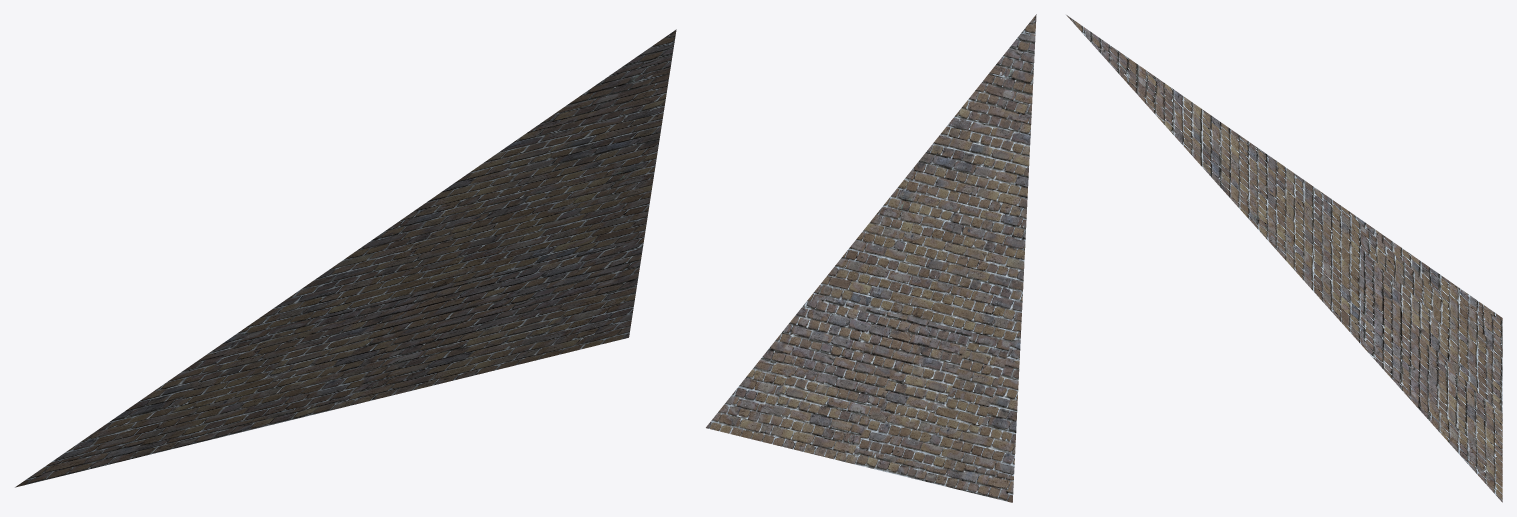
Rendered from Wall_InsetCeiling_Corner.fbx.
3 renders of one model, left to right at view 1: azimuth 30°, elevation 25°; view 2: azimuth 150°, elevation 25°; view 3: azimuth 270°, elevation 25°, orthographic. The views are drawn at different scales.
Parts seen in each view (by area): view 1: Ceiling_Corner; view 2: Ceiling_Corner; view 3: Ceiling_Corner.
Part boxes in pixels (box(x1,y1,x2,y2)): Ceiling_Corner: box(15, 29, 676, 487); Ceiling_Corner: box(706, 14, 1036, 502); Ceiling_Corner: box(1066, 15, 1502, 502).
Size of the model in its own units: 500 by 500 by 500.
Materials: 1 (1 with a texture image).
